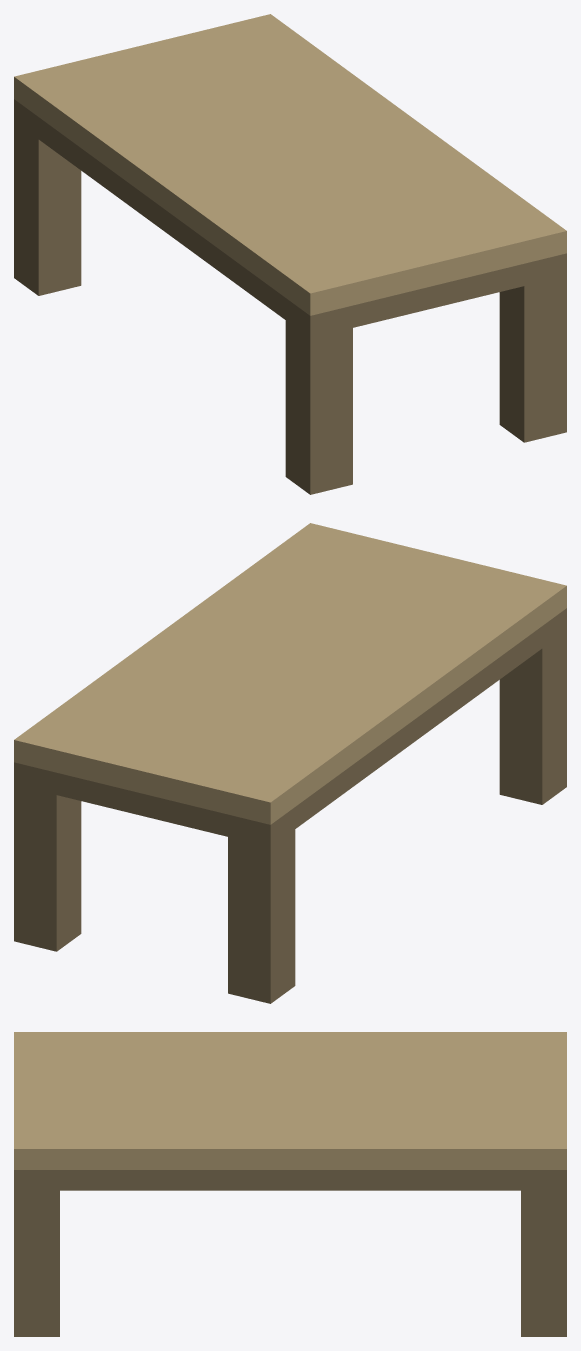
File: mesa_ensamblaje_01.glb
3 renders of one model, top to bottom at view 1: azimuth 30°, elevation 25°; view 2: azimuth 150°, elevation 25°; view 3: azimuth 270°, elevation 25°, orthographic. The views are drawn at different scales.
Visible parts, largest first — view 1: mesa_ensamblaje; view 2: mesa_ensamblaje; view 3: mesa_ensamblaje.
Boxes of the visible parts, x1=… form: mesa_ensamblaje: x1=14, y1=14, x2=566, y2=494; mesa_ensamblaje: x1=14, y1=523, x2=566, y2=1003; mesa_ensamblaje: x1=14, y1=1032, x2=566, y2=1336.
Bounding box in the file's own units: 1 × 0.75 × 2.
